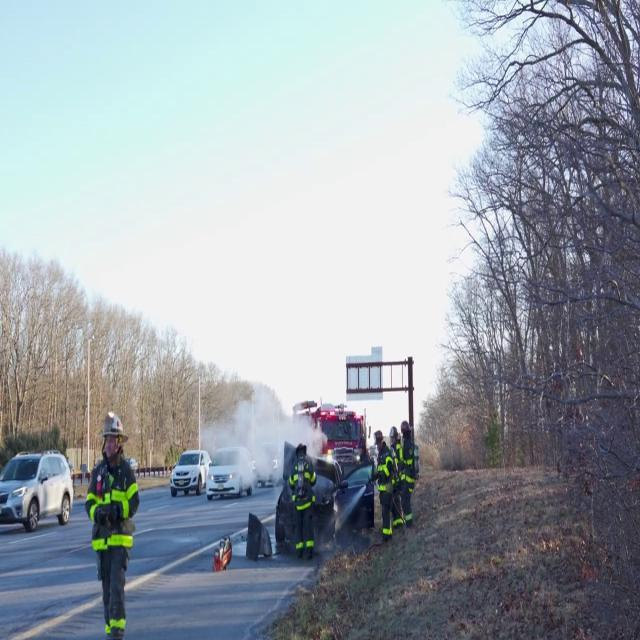Smoke: (209, 373, 317, 488)
